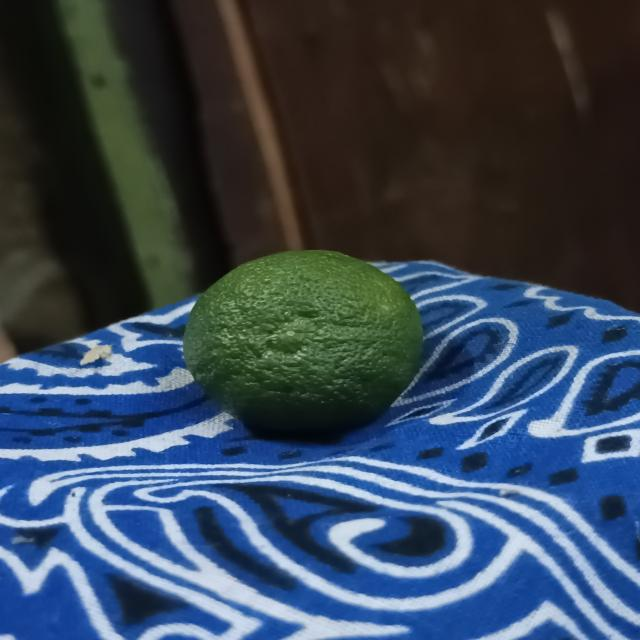heathy: (172, 249, 431, 443)
